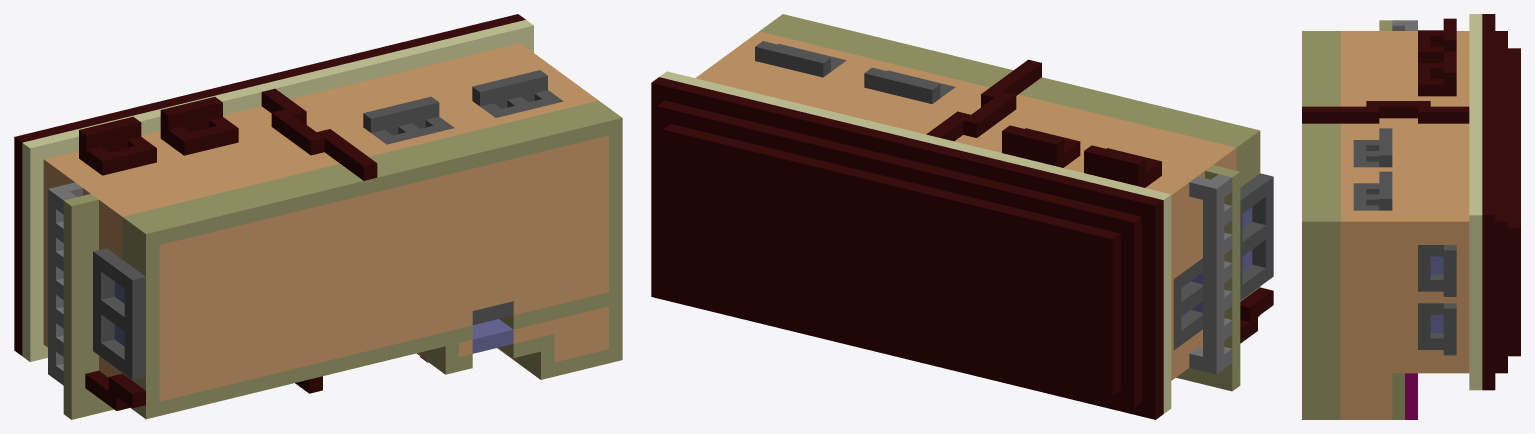
The model's file is yoshida3.fbx.
The picture shows the model from 3 angles, left to right: view 1: azimuth 30°, elevation 25°; view 2: azimuth 150°, elevation 25°; view 3: azimuth 270°, elevation 25°; orthographic projection. The views are drawn at different scales.
Parts seen in each view (by area): view 1: Default; view 2: Default; view 3: Default.
Part boxes in pixels (x1,y1,x2,y2): Default: [14, 14, 622, 419]; Default: [651, 14, 1273, 419]; Default: [1302, 14, 1520, 419].
Bounding box in the file's own units: 38 × 19 × 17.
Materials: 1 (1 with a texture image).
